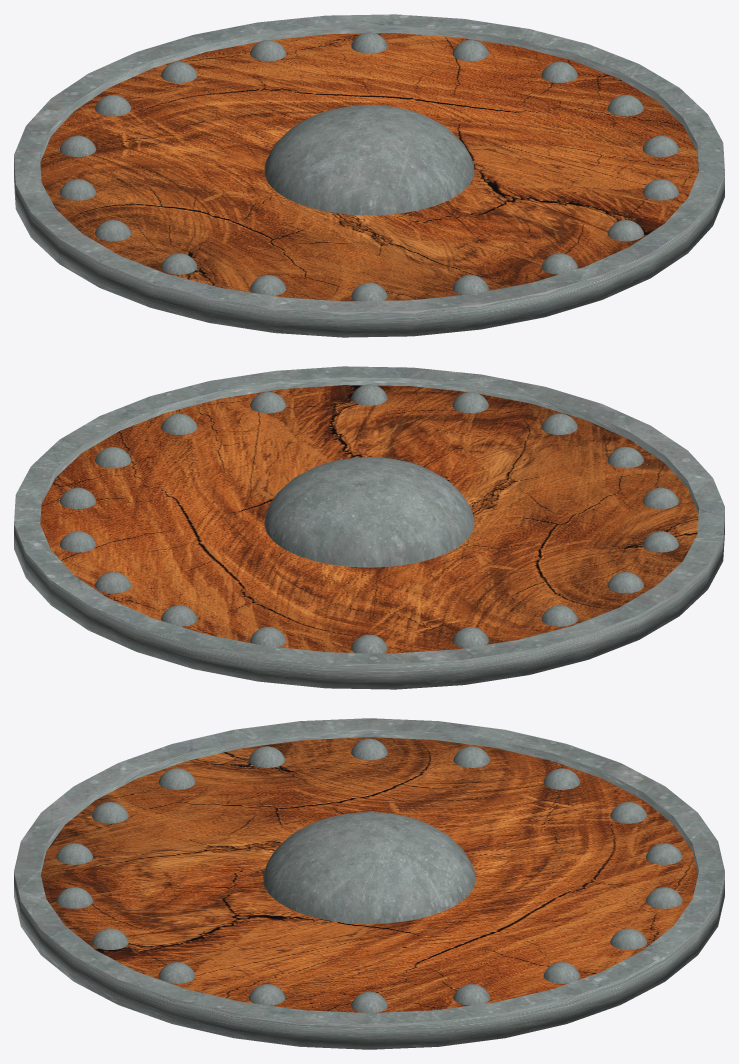
The model's file is Shield.gltf.
3 renders of one model, top to bottom at view 1: azimuth 30°, elevation 25°; view 2: azimuth 150°, elevation 25°; view 3: azimuth 270°, elevation 25°, orthographic.
Visible parts, largest first — view 1: Sphere.001; view 2: Sphere.001; view 3: Sphere.001.
Part boxes in pixels (<box>): Sphere.001: <box>14,14,724,337</box>; Sphere.001: <box>14,366,724,689</box>; Sphere.001: <box>14,718,724,1049</box>.
Size of the model in its own units: 0.6272 by 0.0662 by 0.6156.
